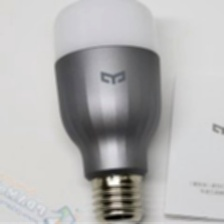light_bulb: (48, 0, 166, 224)
